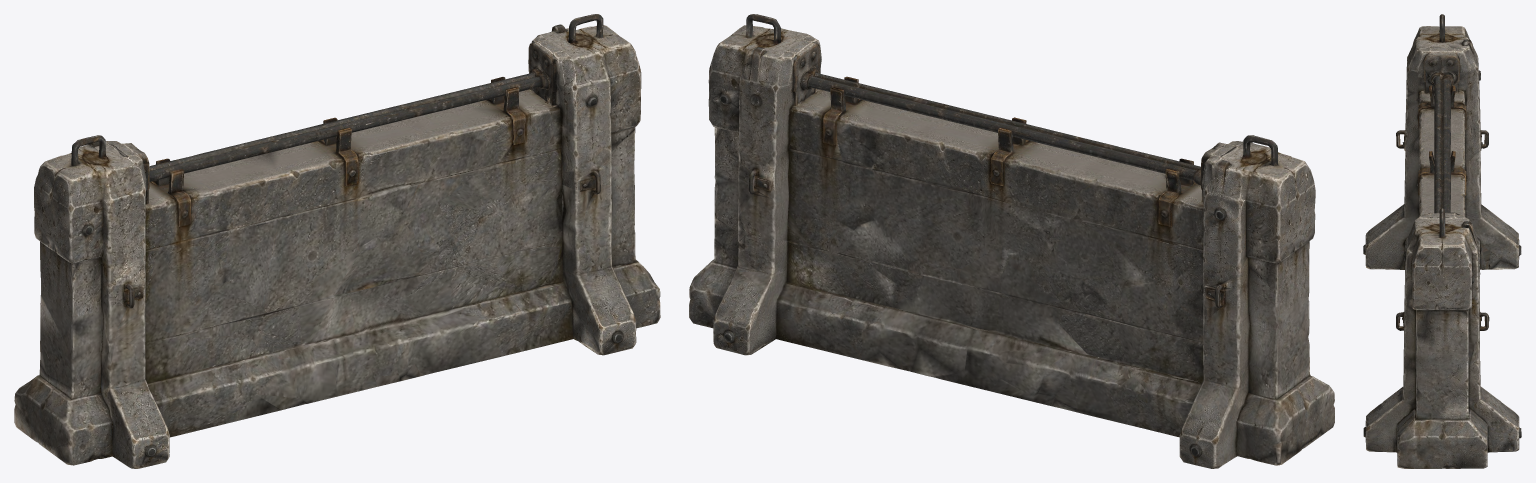
Rendered from iron_barricade.glb.
3 renders of one model, left to right at view 1: azimuth 30°, elevation 25°; view 2: azimuth 150°, elevation 25°; view 3: azimuth 270°, elevation 25°, orthographic. The views are drawn at different scales.
Visible parts, largest first — view 1: iron_barricade; view 2: iron_barricade; view 3: iron_barricade.
Boxes of the visible parts, bbox=[...] form: iron_barricade: bbox=[14, 14, 660, 468]; iron_barricade: bbox=[689, 14, 1334, 468]; iron_barricade: bbox=[1363, 14, 1521, 468].
Bounding box in the file's own units: 1.9 × 0.9129 × 0.5491.
Materials: 1 (1 with a texture image).
